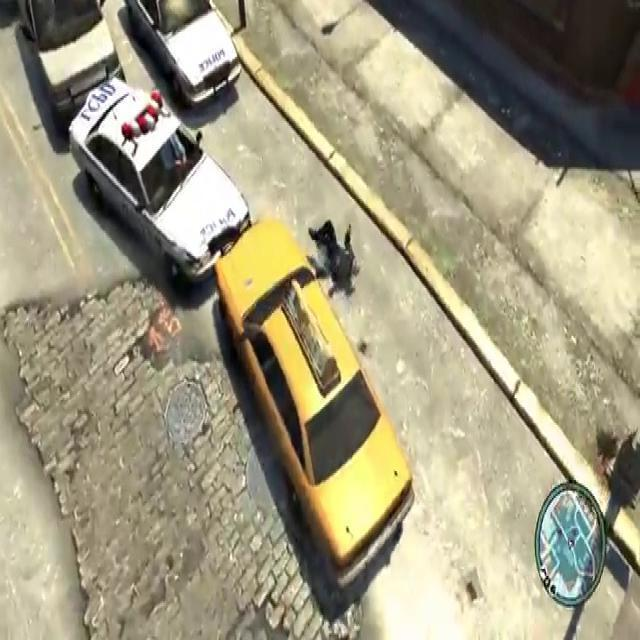accident: (66, 68, 420, 615)
